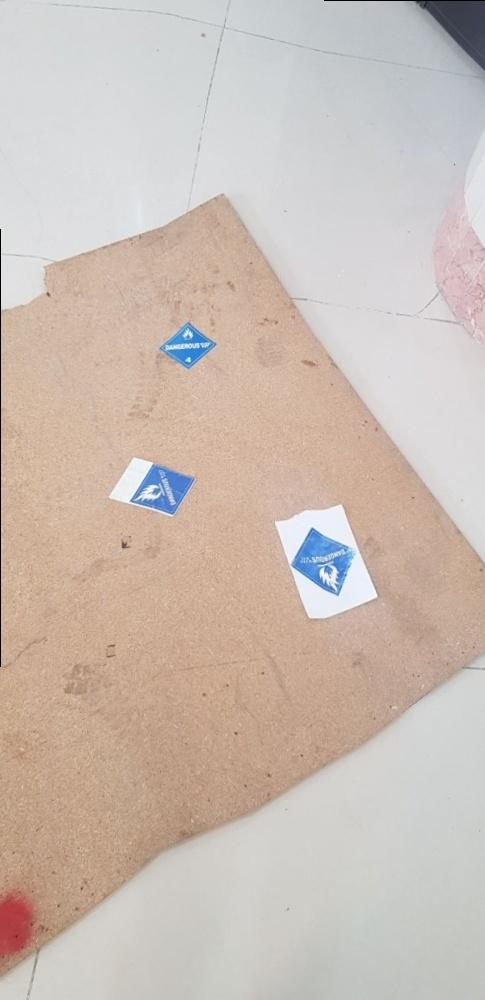dangerous-when-wet: (288, 519, 361, 597), (128, 460, 197, 525), (158, 317, 221, 374)
